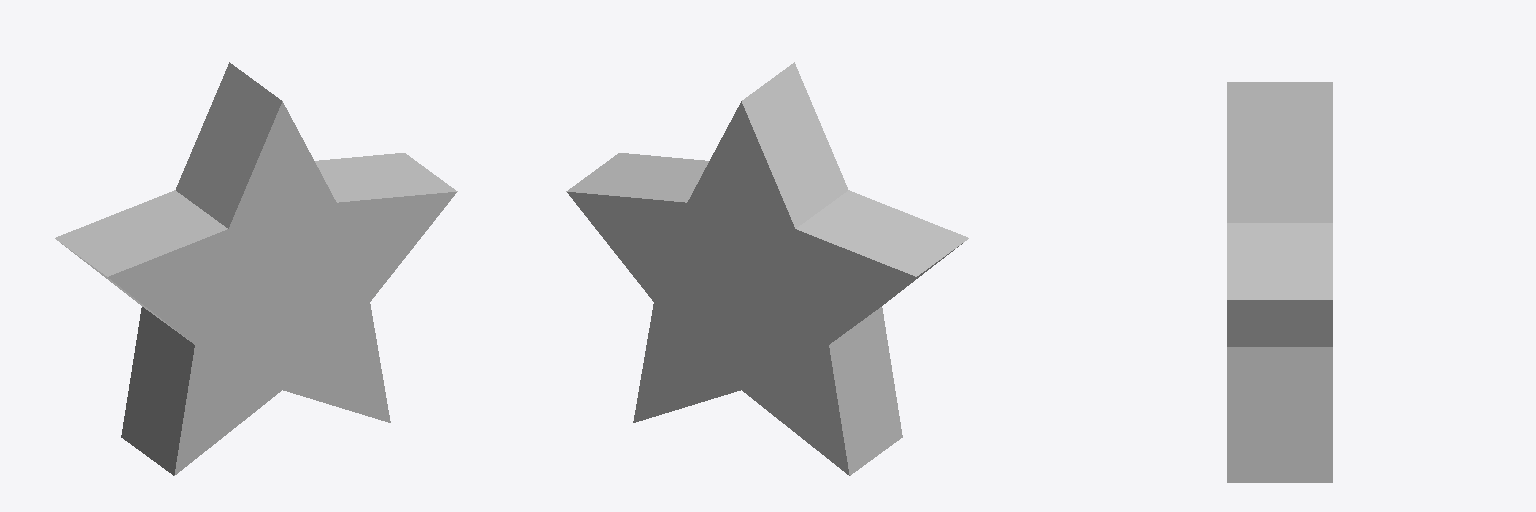
Rendered from star.obj.
3 views of the same model, side by side, from view 1: azimuth 30°, elevation 25°; view 2: azimuth 150°, elevation 25°; view 3: azimuth 270°, elevation 25° (orthographic).
Visible parts, largest first — view 1: Star; view 2: Star; view 3: Star.
Part boxes in pixels (x1,y1,x2,y2): Star: (55,62,457,475); Star: (566,62,968,475); Star: (1227,82,1332,482).
Bounding box in the file's own units: 1.9 × 1.81 × 0.5.